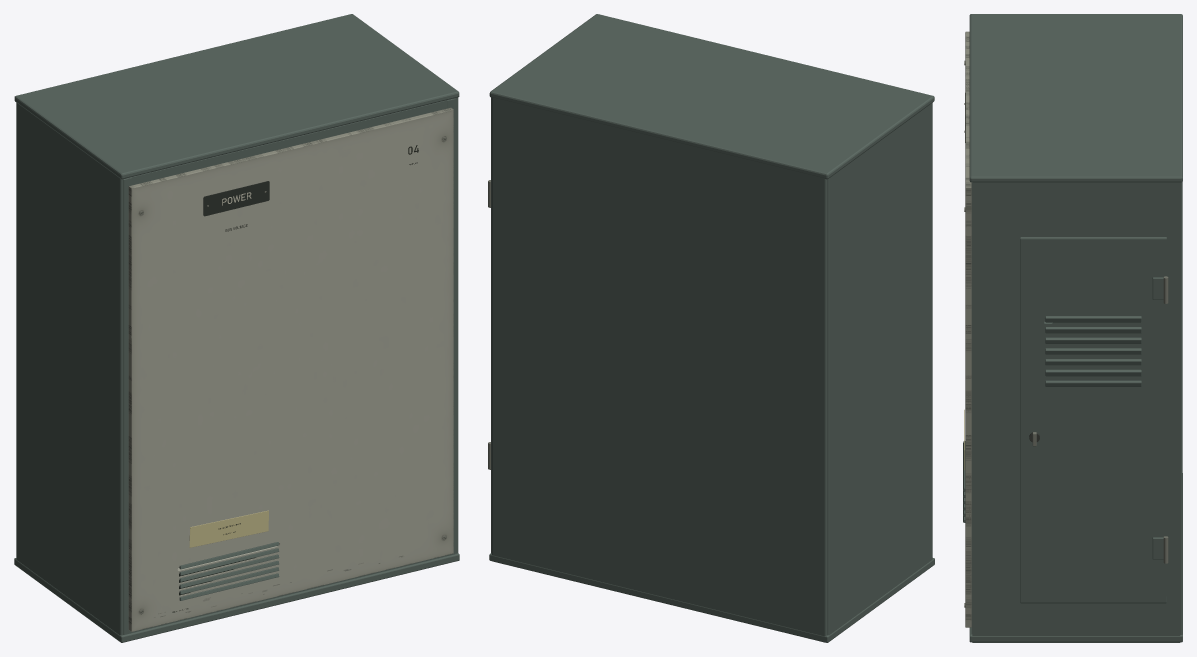
The model's file is POWER_Cabinet.fbx.
The picture shows the model from 3 angles, left to right: view 1: azimuth 30°, elevation 25°; view 2: azimuth 150°, elevation 25°; view 3: azimuth 270°, elevation 25°; orthographic projection.
Parts seen in each view (by area): view 1: POWER_Cabinet_EXPORT; view 2: POWER_Cabinet_EXPORT; view 3: POWER_Cabinet_EXPORT.
Part boxes in pixels (left/top/right/bottom): POWER_Cabinet_EXPORT: left=14, top=14, right=459, bottom=642; POWER_Cabinet_EXPORT: left=488, top=14, right=934, bottom=642; POWER_Cabinet_EXPORT: left=963, top=14, right=1182, bottom=642.
Size of the model in its own units: 1.85 by 2.4 by 1.02.
